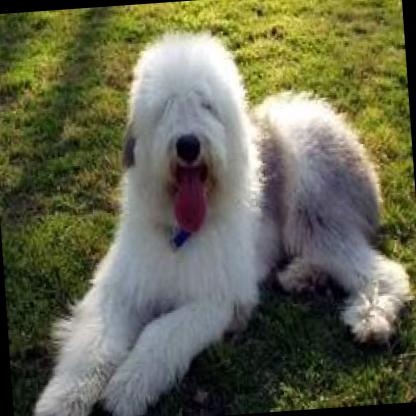Old_English_sheepdog: (2, 9, 416, 416)
